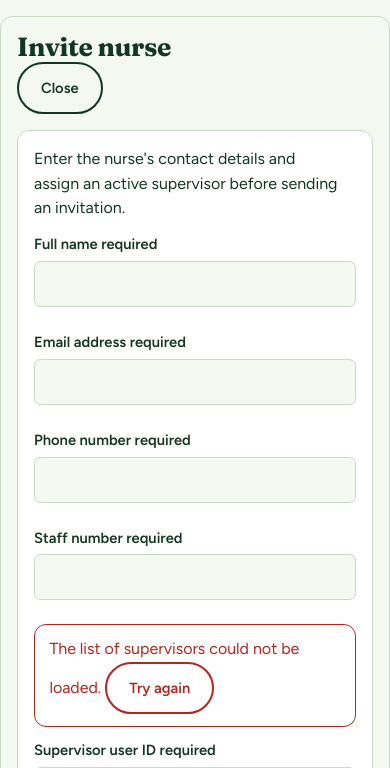
Test: InviteNurseSheet › lets the person retry and type a supervisor ID when the list cannot be loaded
Expected: the text "The list of supervisors could not be loaded. Try again" is shown, [34,624,356,727]
Click the button "Try again" at [160, 688], box [105,662,214,714]
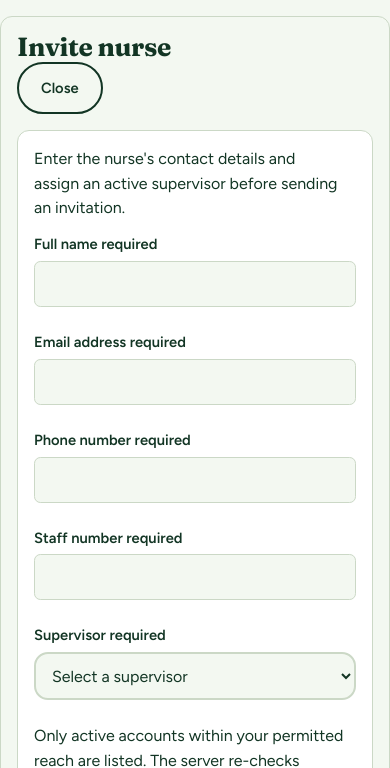
Now the text "could not be loaded" is gone
